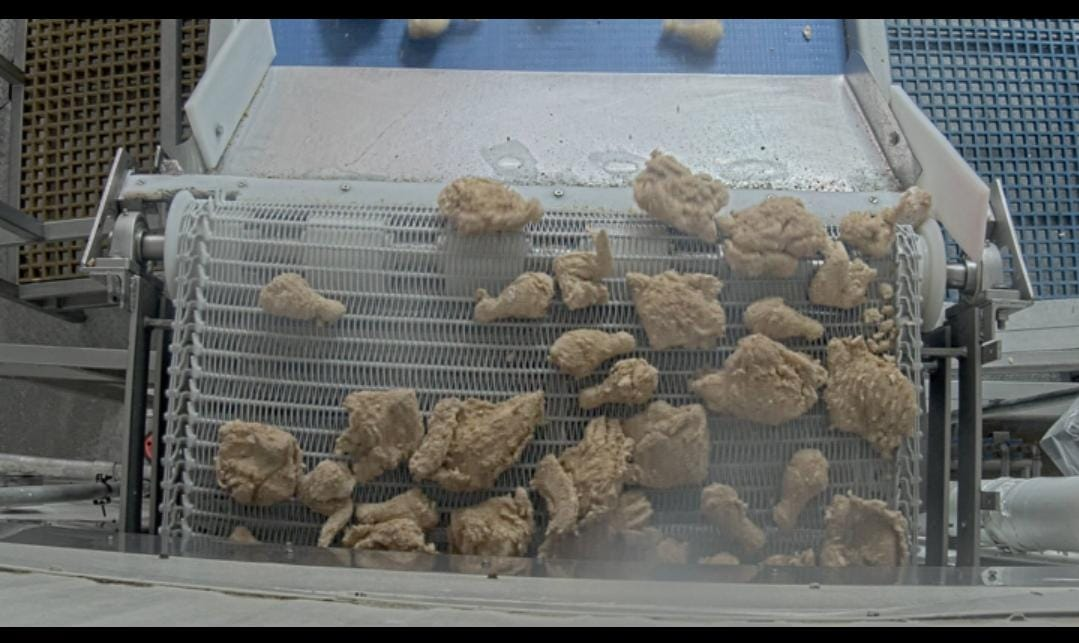chicken nugget: (536, 414, 651, 575), (213, 417, 354, 548), (412, 389, 543, 488), (694, 333, 830, 423), (827, 337, 924, 462), (632, 148, 733, 251), (623, 267, 731, 359), (733, 192, 823, 295), (337, 388, 426, 485), (622, 398, 714, 490), (436, 175, 547, 235), (842, 185, 933, 257), (696, 482, 772, 562), (553, 227, 618, 312), (547, 327, 638, 381), (774, 446, 828, 535), (255, 271, 346, 323), (473, 271, 555, 327), (742, 296, 826, 347), (579, 356, 659, 408), (663, 14, 726, 57)
